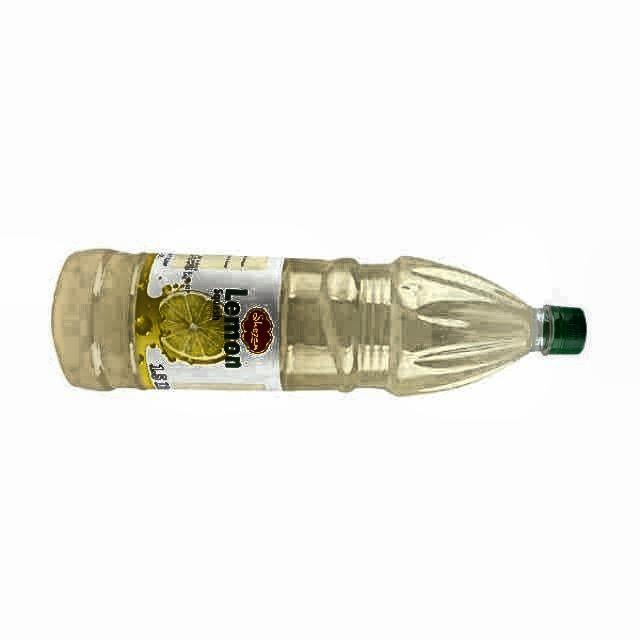plastic: (52, 249, 586, 395)
